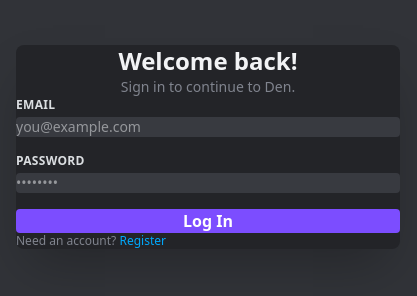
it: AuthPage — register mode › shows the register form after clicking Register link
What coordinates should you click on to do the following:
click the button "Register"
I would click on:
 (143, 241)
Its box is x1=119 y1=233 x2=166 y2=249.
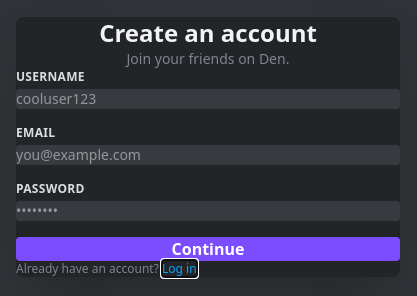
expect the heading "Create an account" is shown: met, box x1=99 y1=16 x2=317 y2=49
expect the field with placeholder "cooluser123" is shown: met, box x1=16 y1=89 x2=400 y2=109
expect the button "Continue" is shown: met, box x1=16 y1=237 x2=400 y2=261
